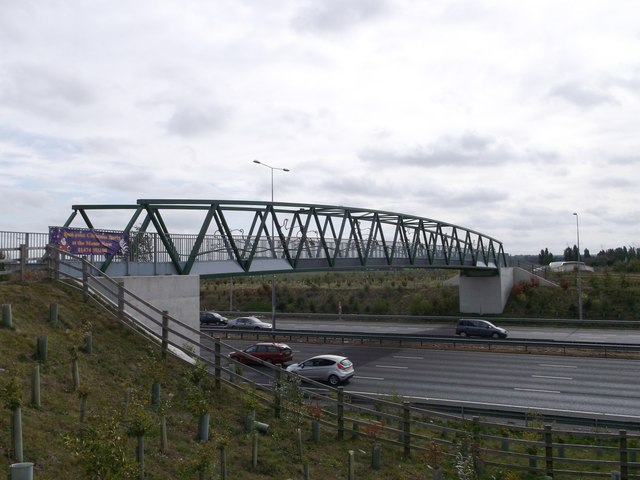bridge: (73, 197, 512, 274)
